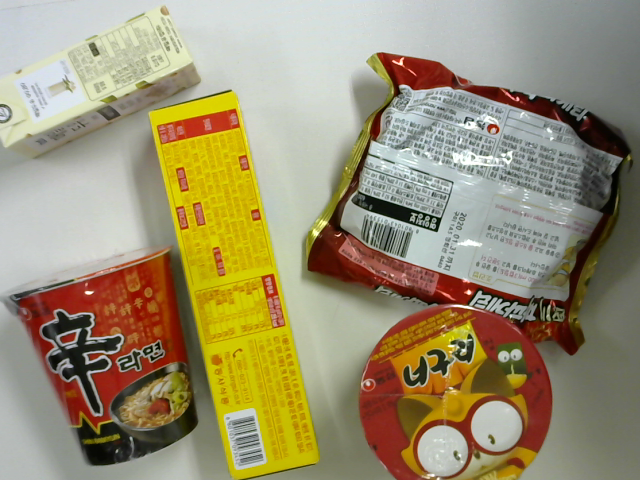99.89_Soymilk: (3, 8, 199, 176)
Raccoon: (355, 310, 559, 480)
Ritz_Remon_96g: (151, 86, 328, 480)
Sichuan_Chapaghetti: (307, 52, 625, 360)
Sinramen_small: (1, 244, 201, 468)
